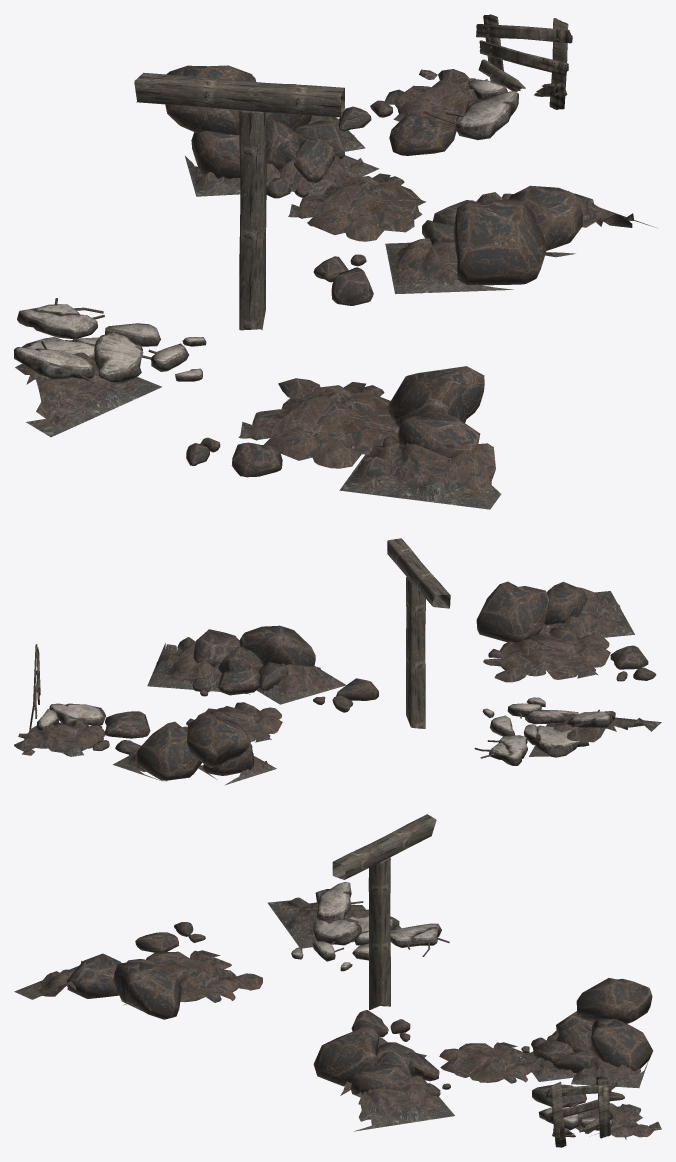
File: 90deg_turn_rough_terrain.dae
3 views of the same model, one above another, from view 1: azimuth 30°, elevation 25°; view 2: azimuth 150°, elevation 25°; view 3: azimuth 270°, elevation 25° (orthographic). The views are drawn at different scales.
Parts seen in each view (by area): view 1: RockPile, Rocks, Wood, Concrete; view 2: Rocks, RockPile, Concrete, Wood; view 3: Rocks, RockPile, Wood, Concrete.
Boxes of the visible parts, x1=… form: RockPile: x1=15, y1=69, x2=657, y2=509; Rocks: x1=165, y1=65, x2=583, y2=477; Wood: x1=134, y1=14, x2=572, y2=330; Concrete: x1=14, y1=79, x2=518, y2=383; Rocks: x1=92, y1=581, x2=656, y2=780; RockPile: x1=14, y1=587, x2=661, y2=785; Concrete: x1=36, y1=697, x2=615, y2=765; Wood: x1=29, y1=538, x2=450, y2=729; Rocks: x1=67, y1=922, x2=652, y2=1107; RockPile: x1=14, y1=897, x2=661, y2=1139; Wood: x1=332, y1=814, x2=613, y2=1147; Concrete: x1=291, y1=882, x2=613, y2=1130.
Bounding box in the file's own units: 1208 × 1338 × 382.
